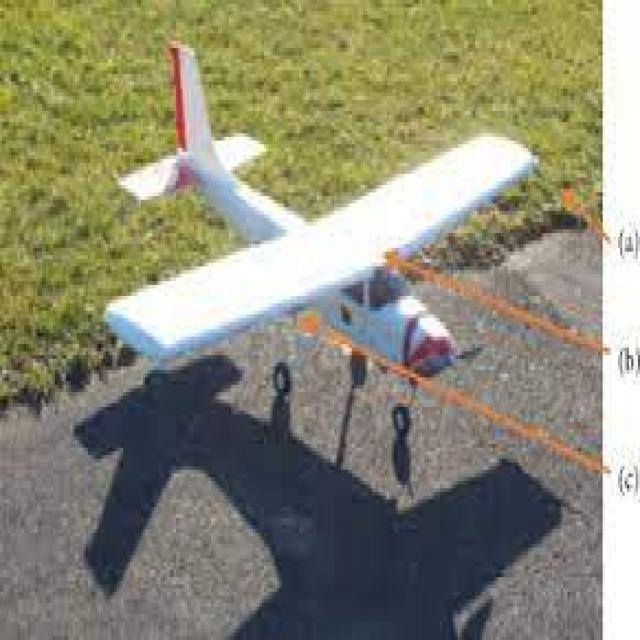iha: (144, 67, 549, 436)
